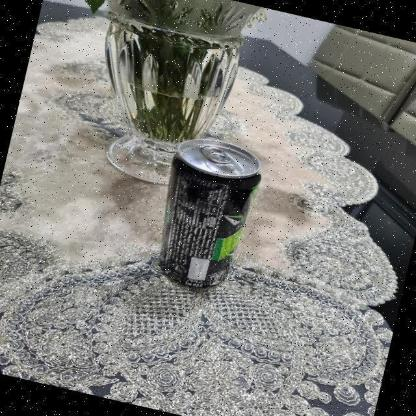Can: (158, 139, 262, 289)
